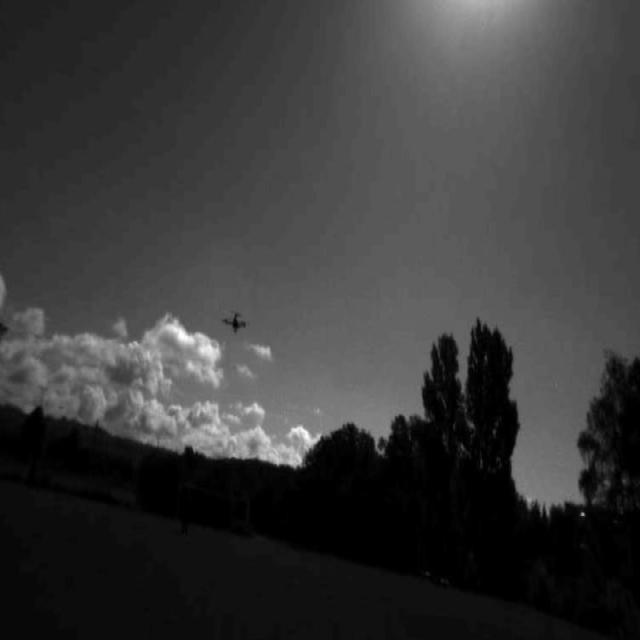drone: (220, 305, 248, 335)
